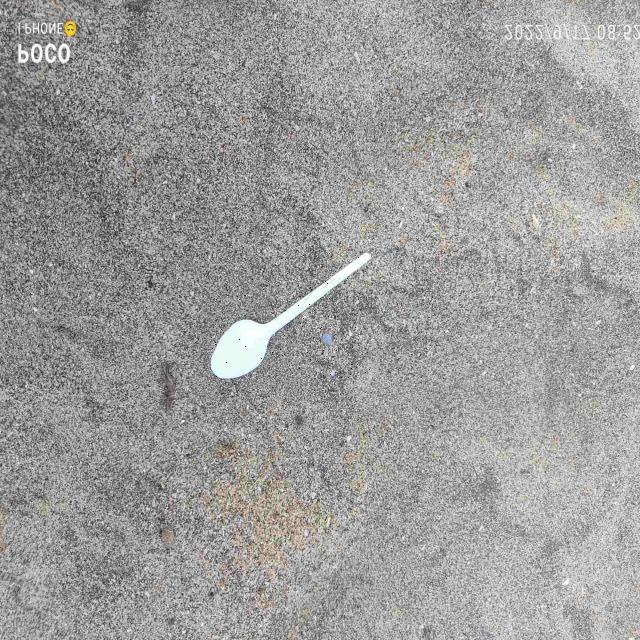plastic: (211, 253, 370, 378)
